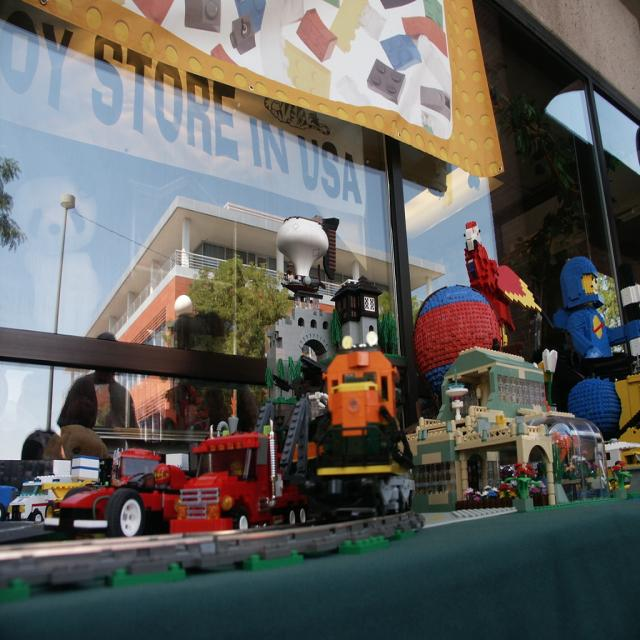Toy: (0, 214, 424, 601), (398, 286, 630, 527), (552, 257, 640, 472), (454, 210, 550, 360), (259, 0, 304, 87), (284, 40, 330, 99), (418, 34, 454, 98), (328, 0, 367, 53), (365, 58, 406, 105), (403, 16, 447, 49), (381, 36, 420, 70), (185, 0, 221, 33), (334, 75, 371, 104), (230, 13, 256, 54), (234, 0, 266, 33), (420, 88, 452, 120), (131, 0, 175, 23), (359, 4, 385, 40), (421, 110, 448, 136), (423, 0, 443, 31), (210, 44, 238, 66), (381, 1, 415, 10), (324, 0, 340, 7)
